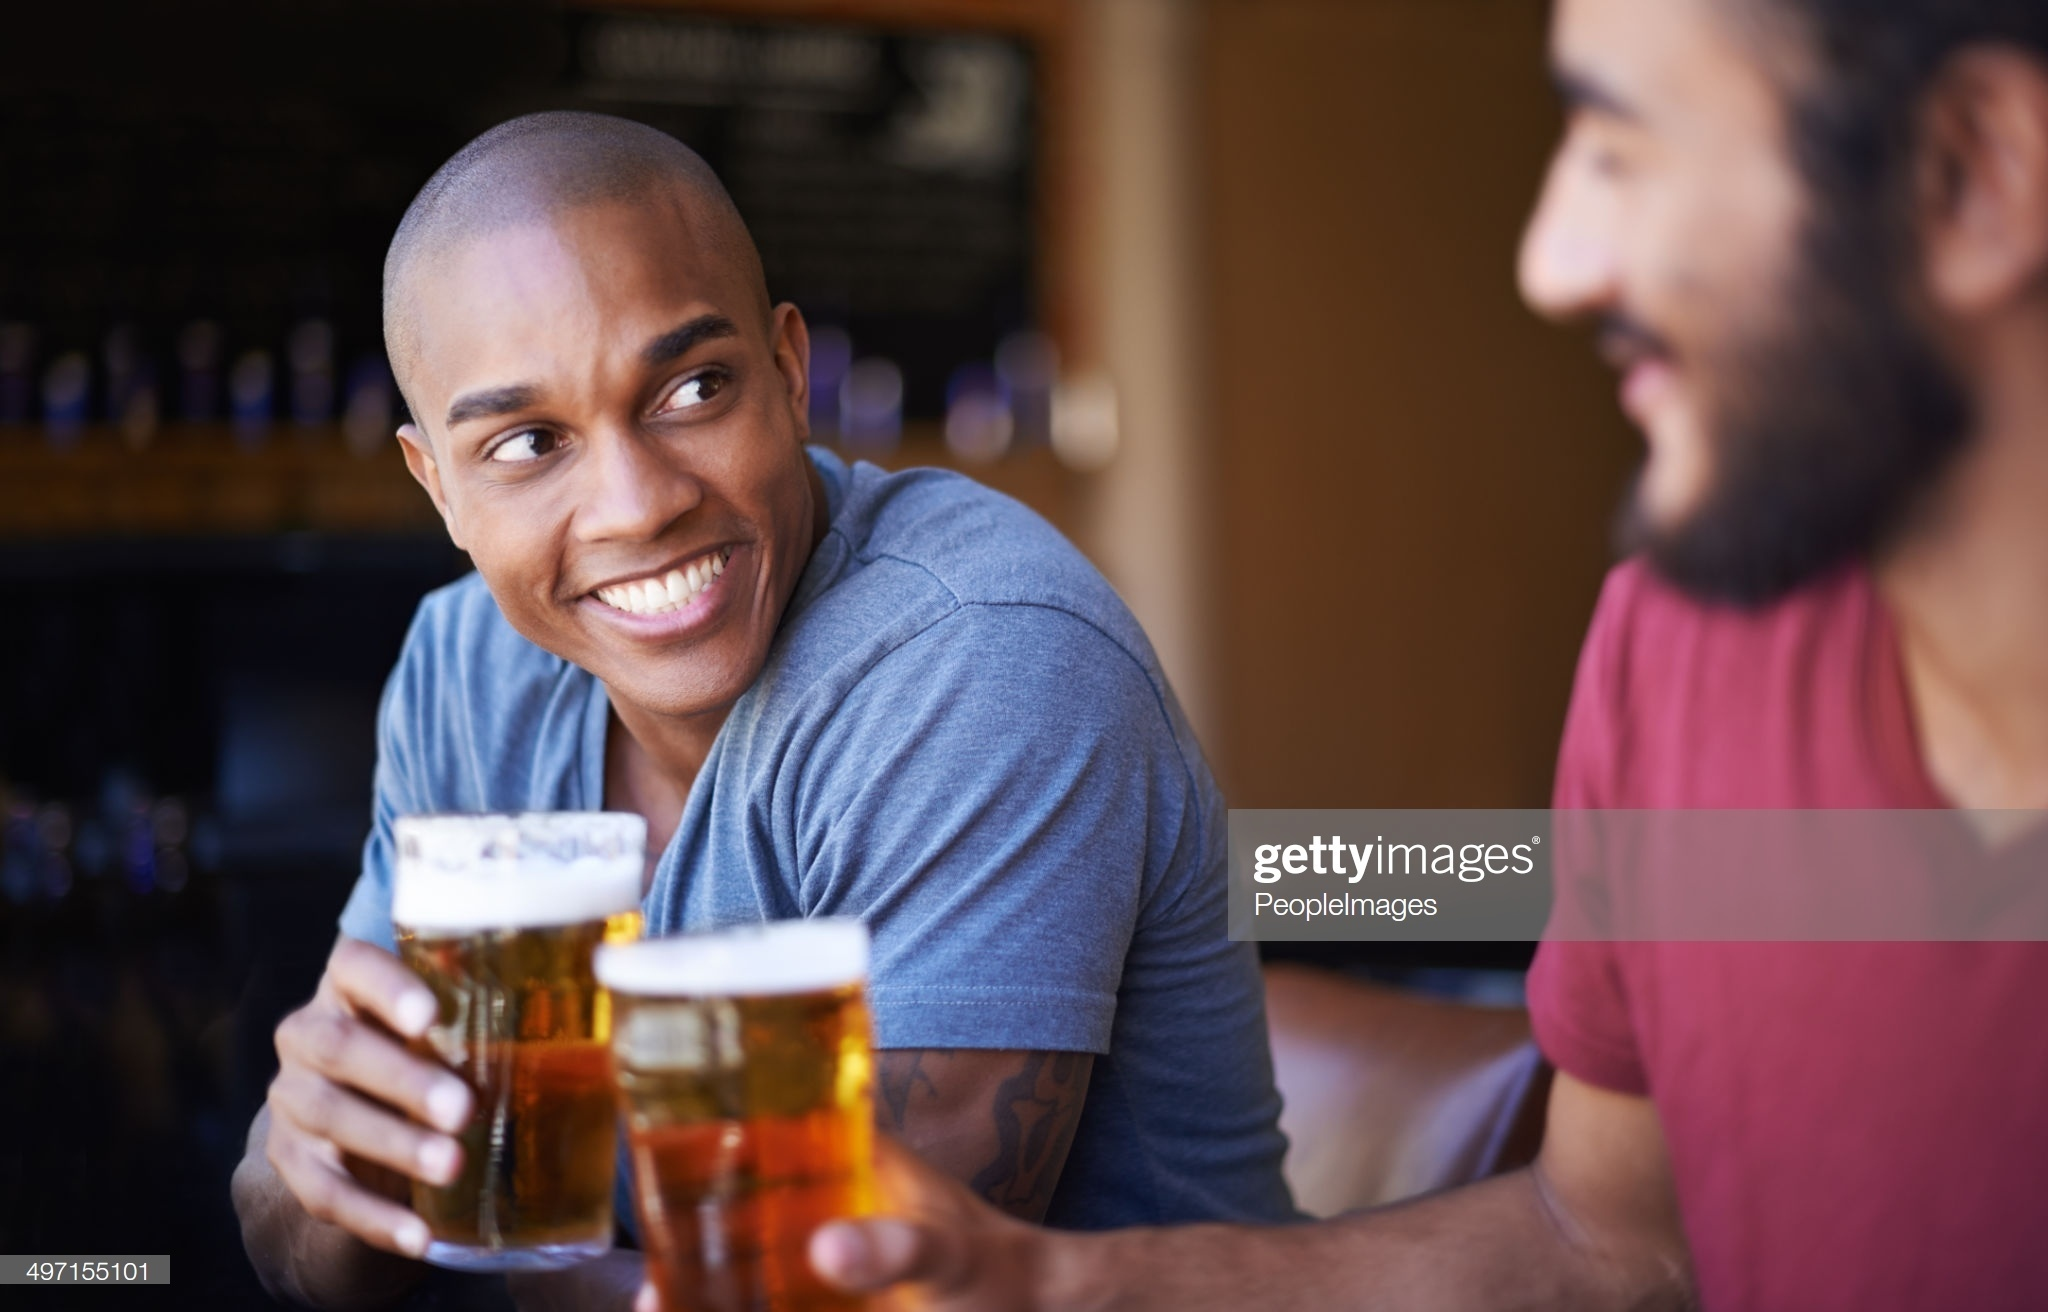whiskey: (600, 916, 864, 1308), (385, 834, 649, 1225)
